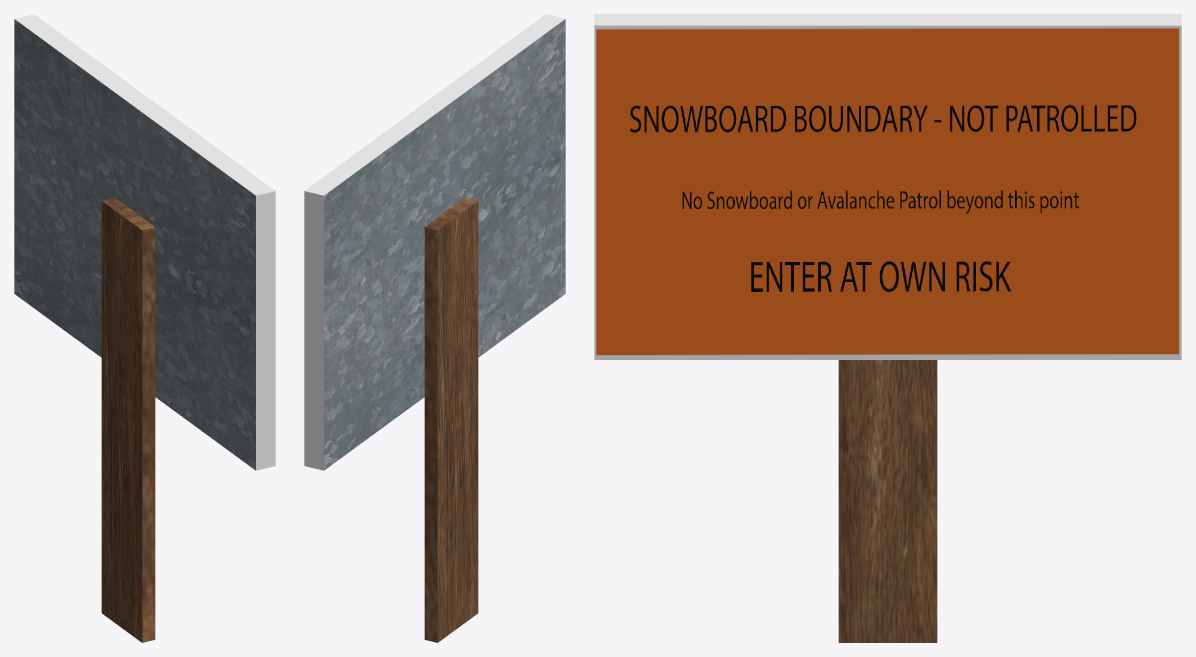
File: Sign Boundary.fbx
The picture shows the model from 3 angles, left to right: view 1: azimuth 30°, elevation 25°; view 2: azimuth 150°, elevation 25°; view 3: azimuth 270°, elevation 25°; orthographic projection. The views are drawn at different scales.
Parts seen in each view (by area): view 1: Post; view 2: Post; view 3: Post.
Boxes of the visible parts, x1,y1,x2,y2 form: Post: [14, 14, 275, 642]; Post: [304, 14, 565, 642]; Post: [594, 14, 1181, 642].
Size of the model in its own units: 25 by 376 by 319.
1 material, 1 textured.
